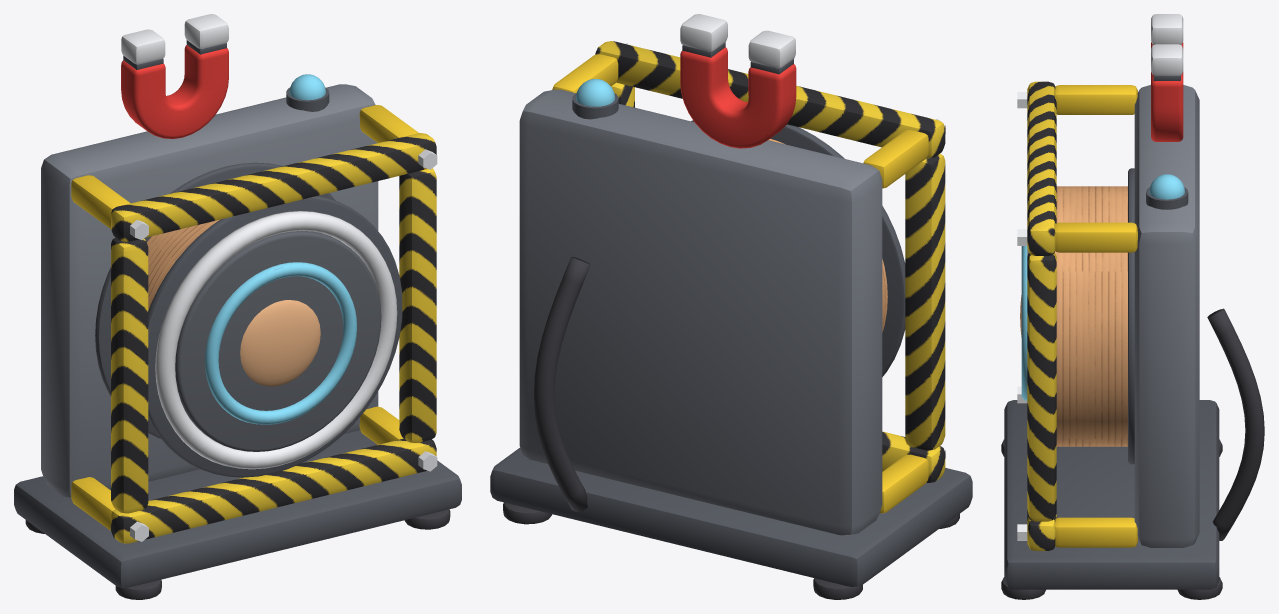
File: SM_Magnet.fbx
The picture shows the model from 3 angles, left to right: view 1: azimuth 30°, elevation 25°; view 2: azimuth 150°, elevation 25°; view 3: azimuth 270°, elevation 25°; orthographic projection. The views are drawn at different scales.
Visible parts, largest first — view 1: SM_Magnet_Housing, SM_Magnet_Face; view 2: SM_Magnet_Housing; view 3: SM_Magnet_Housing, SM_Magnet_Face.
Boxes of the visible parts, box(x1,y1,x2,y2) form: SM_Magnet_Housing: box(14, 14, 461, 599); SM_Magnet_Face: box(175, 230, 381, 451); SM_Magnet_Housing: box(490, 14, 972, 599); SM_Magnet_Housing: box(1001, 14, 1264, 599); SM_Magnet_Face: box(1020, 246, 1027, 400).
Bounding box in the file's own units: 1.2 × 1.6 × 0.8099.
